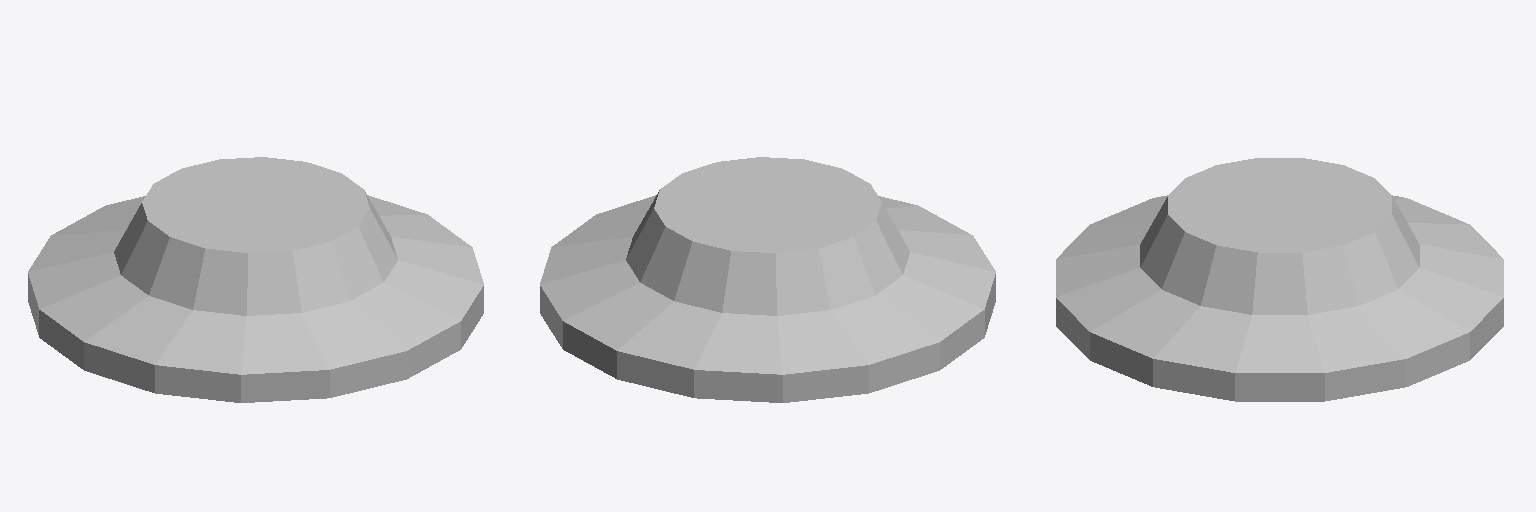
File: big_adapter_to_tiny_lip_coll.obj
3 views of the same model, side by side, from view 1: azimuth 30°, elevation 25°; view 2: azimuth 150°, elevation 25°; view 3: azimuth 270°, elevation 25° (orthographic).
Visible parts, largest first — view 1: collider1, collider2; view 2: collider1, collider2; view 3: collider1, collider2.
Part boxes in pixels (x1,y1,x2,y2): collider1: (28, 195, 483, 402); collider2: (114, 157, 397, 315); collider1: (540, 195, 995, 402); collider2: (626, 157, 909, 315); collider1: (1056, 195, 1503, 401); collider2: (1140, 158, 1419, 314).
Size of the model in its own units: 1.25 by 0.3125 by 1.25.